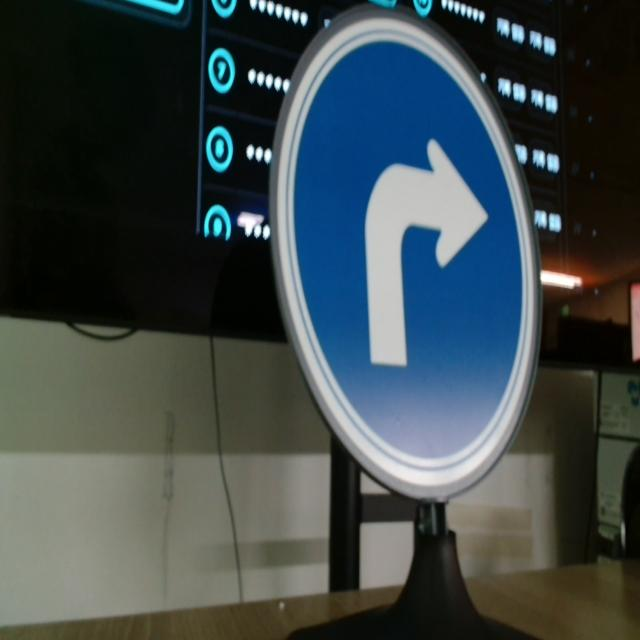right_dierection: (268, 3, 541, 499)
